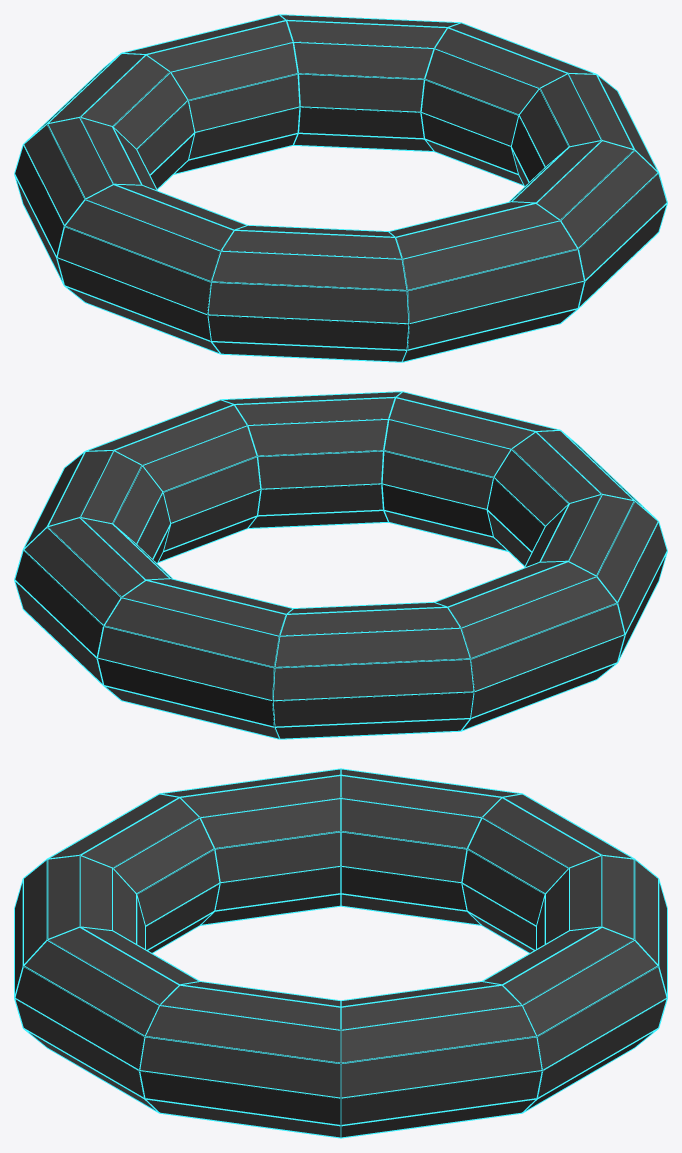
3 renders of one model, top to bottom at view 1: azimuth 30°, elevation 25°; view 2: azimuth 150°, elevation 25°; view 3: azimuth 270°, elevation 25°, orthographic. The views are drawn at different scales.
Visible parts, largest first — view 1: Torus; view 2: Torus; view 3: Torus.
Part boxes in pixels (x1,y1,x2,y2): Torus: [14, 14, 667, 362]; Torus: [14, 391, 667, 739]; Torus: [14, 768, 667, 1138].
Bounding box in the file's own units: 830 × 168 × 790.
